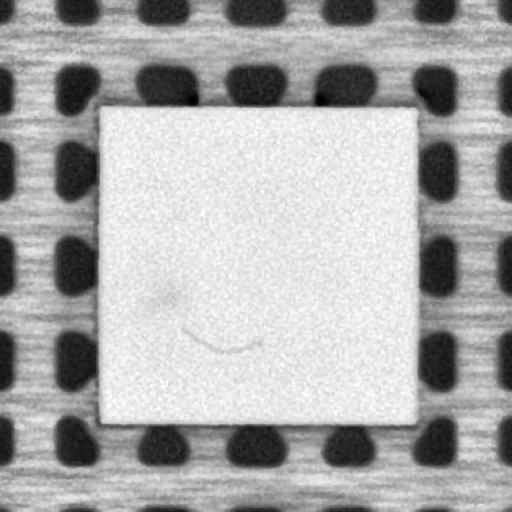DIE_CRACK: (179, 326, 264, 354)
